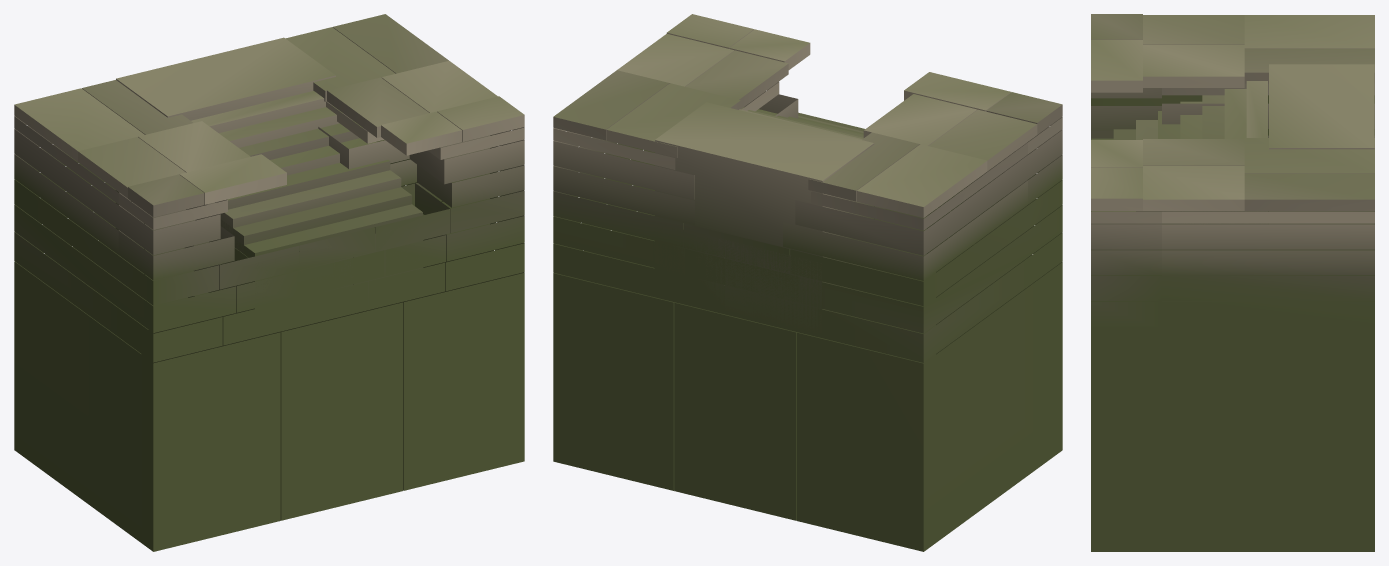
The model's file is harbour_quay_steps_mid.glb.
3 views of the same model, side by side, from view 1: azimuth 30°, elevation 25°; view 2: azimuth 150°, elevation 25°; view 3: azimuth 270°, elevation 25° (orthographic). The views are drawn at different scales.
Parts seen in each view (by area): view 1: harbour_quay_steps_mid; view 2: harbour_quay_steps_mid; view 3: harbour_quay_steps_mid.
Boxes of the visible parts, x1,y1,x2,y2 form: harbour_quay_steps_mid: (14, 14, 524, 551); harbour_quay_steps_mid: (553, 14, 1062, 551); harbour_quay_steps_mid: (1091, 14, 1374, 551).
Size of the model in its own units: 18.47 by 16.49 by 12.
